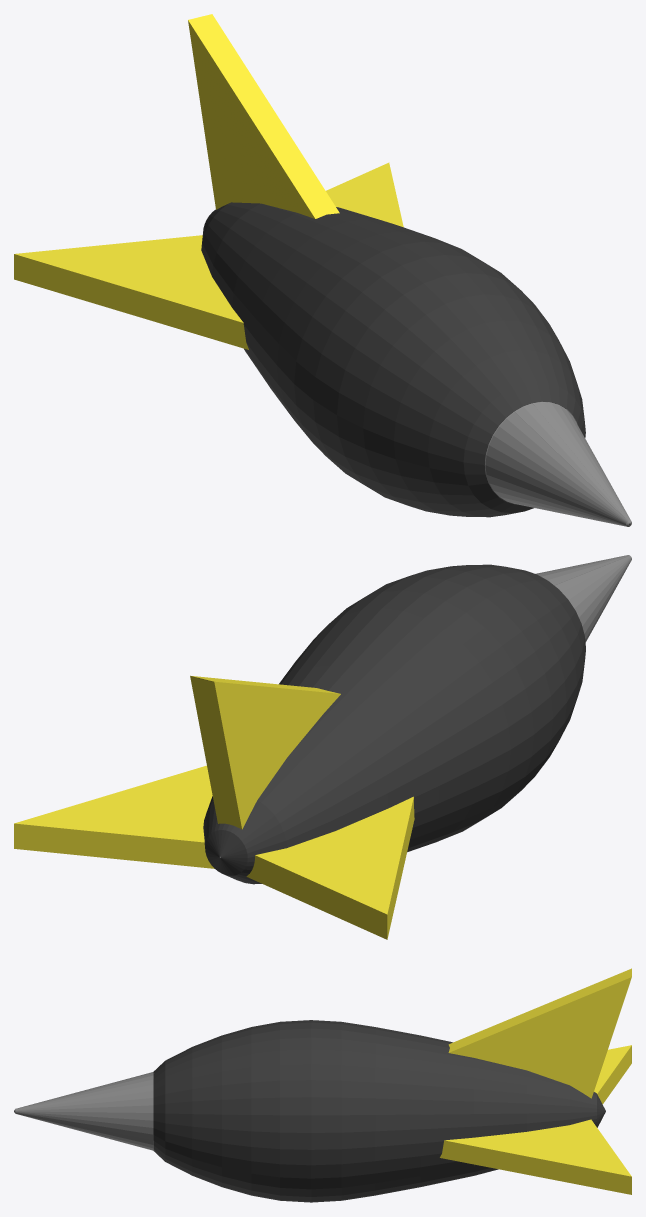
The model's file is Dart.fbx.
The picture shows the model from 3 angles, top to bottom: view 1: azimuth 30°, elevation 25°; view 2: azimuth 150°, elevation 25°; view 3: azimuth 270°, elevation 25°; orthographic projection. The views are drawn at different scales.
Visible parts, largest first — view 1: Dart; view 2: Dart; view 3: Dart.
Boxes of the visible parts, x1,y1,x2,y2 form: Dart: (14,14,631,526); Dart: (14,555,631,939); Dart: (14,968,631,1202).
Size of the model in its own units: 67.71 by 53.12 by 134.
